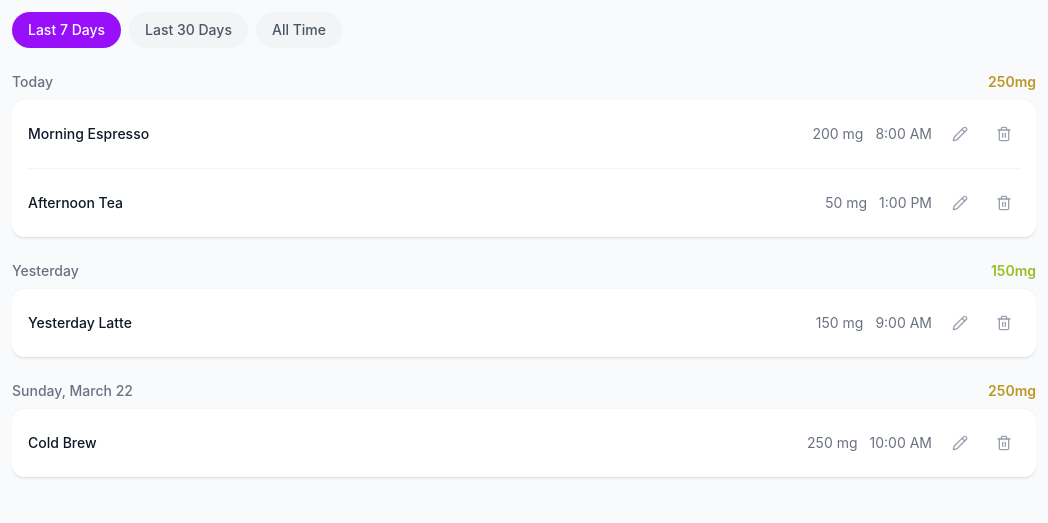
Test: HistoryDrinkList › edit and delete mutual exclusion: only one row active at a time across all date groups
# Click edit on Morning Espresso
Click the button named "Edit Morning Espresso".
click(960, 134)  # box [944,112,976,156]
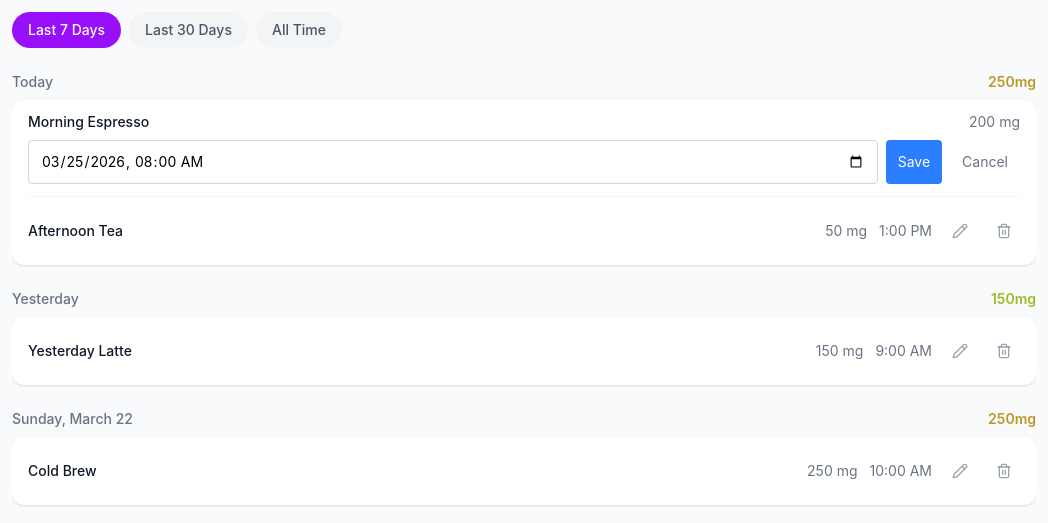
Expected: the button "Save" is shown, [886,140,942,184]
# Click delete on Yesterday Latte (different day group)
Click the button named "Delete Yesterday Latte".
click(1004, 351)  # box [988,329,1020,373]
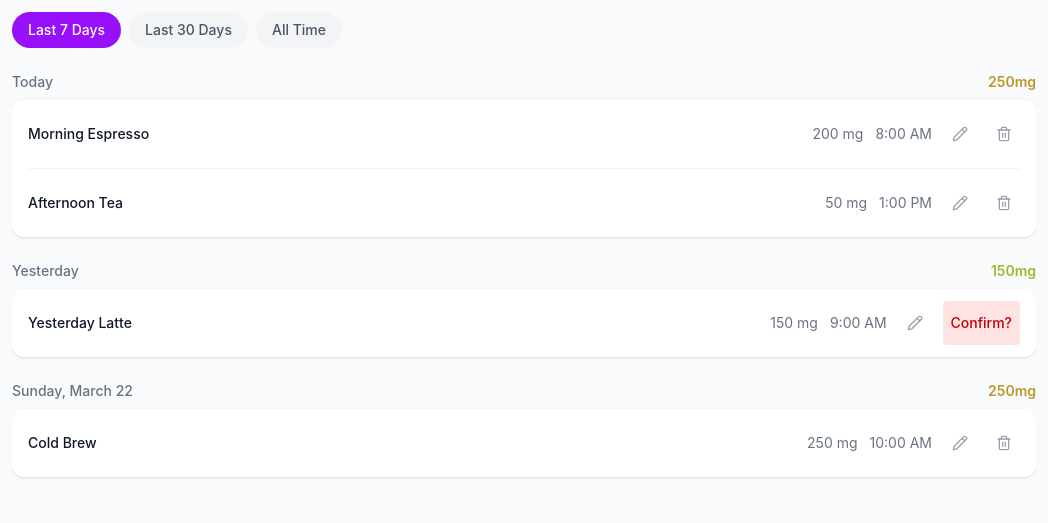
Expected: the button "Save" is gone
Expected: the button "Confirm?" is shown, [943,301,1020,345]
